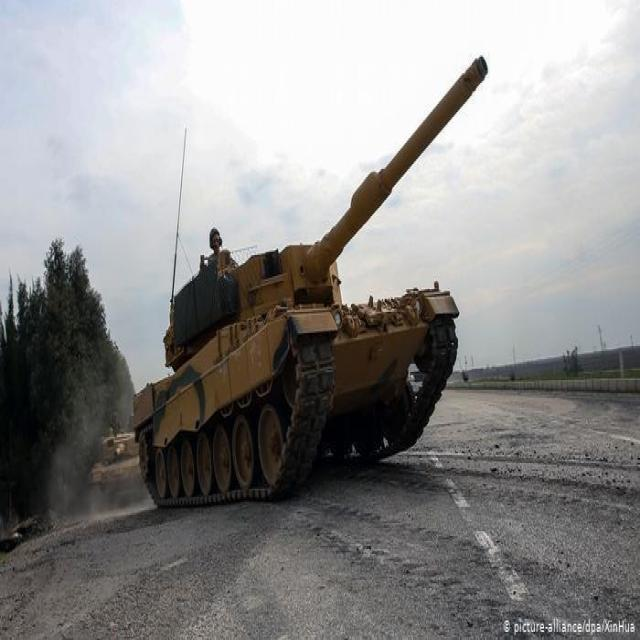Tanks: (144, 248, 444, 526)
